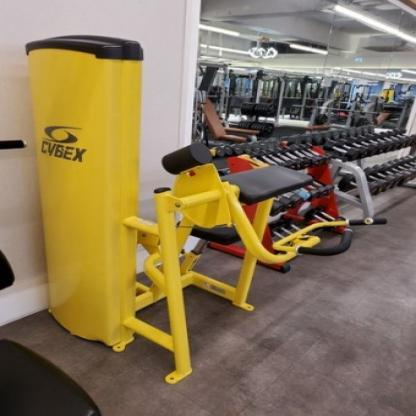arm curl machine: (38, 145, 389, 383)
